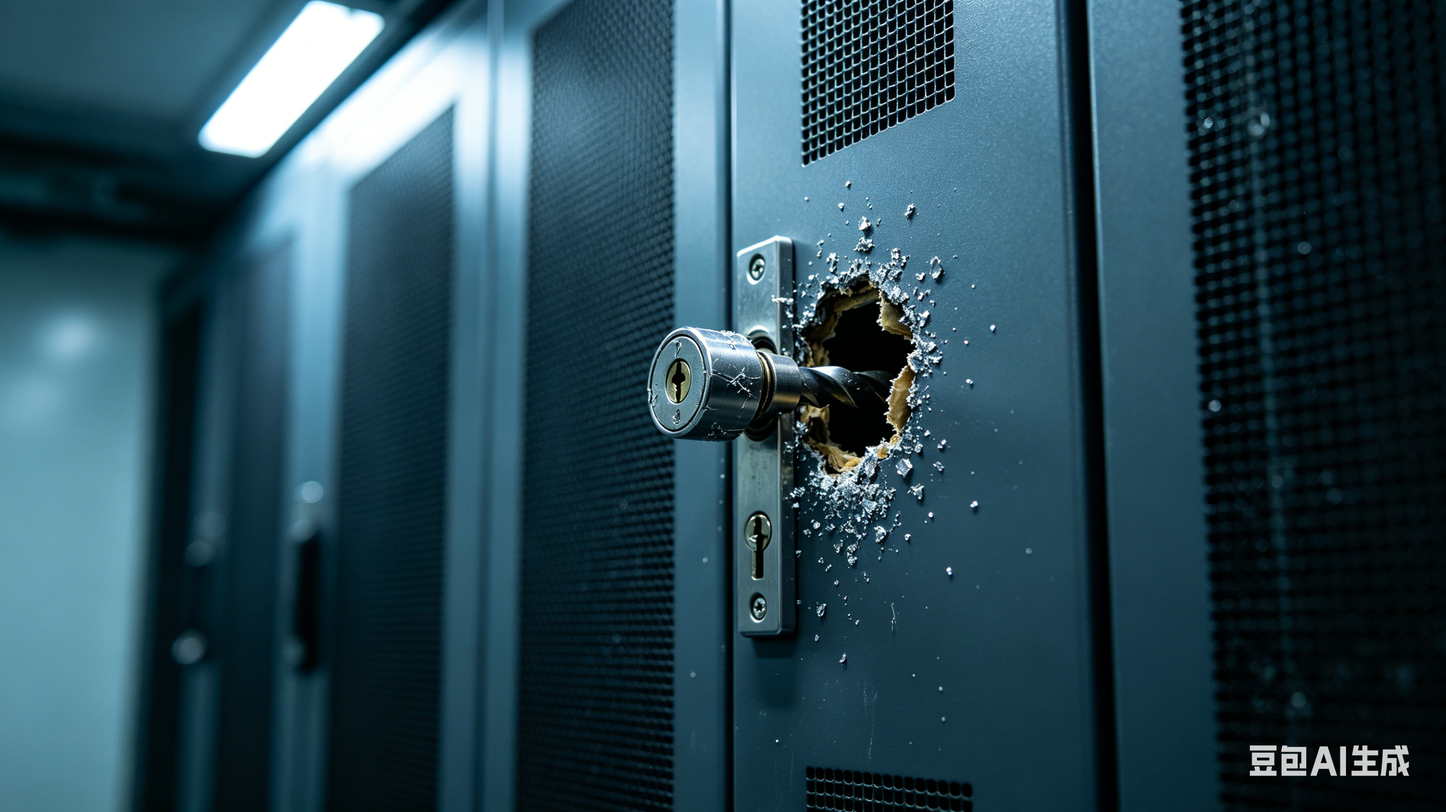BadLock: (718, 300, 925, 477)
